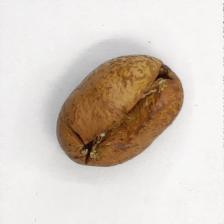NG: (102, 53, 178, 120), (81, 99, 126, 162)
